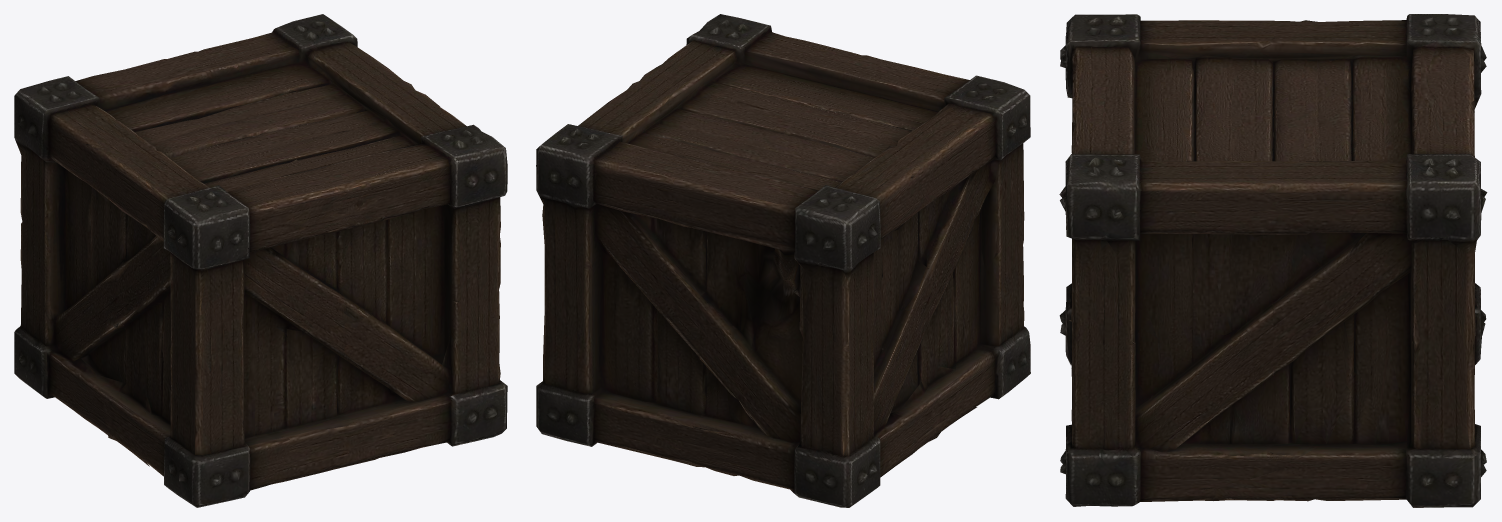
Rendered from Crate.fbx.
3 views of the same model, side by side, from view 1: azimuth 30°, elevation 25°; view 2: azimuth 150°, elevation 25°; view 3: azimuth 270°, elevation 25° (orthographic). The views are drawn at different scales.
Parts seen in each view (by area): view 1: crate; view 2: crate; view 3: crate.
Part boxes in pixels (<box>): crate: <box>14,14,507,507</box>; crate: <box>536,14,1030,507</box>; crate: <box>1059,14,1487,507</box>.
Bounding box in the file's own units: 97.56 × 85.87 × 98.48.
1 material, 1 textured.
